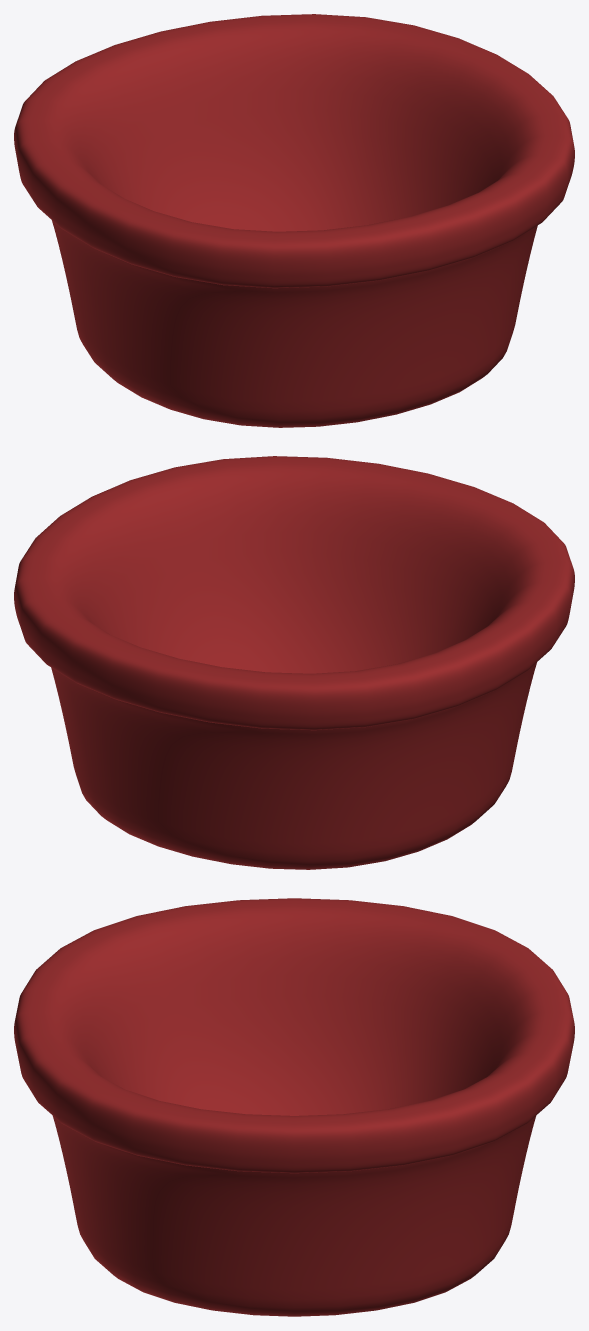
File: тазик.fbx
3 renders of one model, top to bottom at view 1: azimuth 30°, elevation 25°; view 2: azimuth 150°, elevation 25°; view 3: azimuth 270°, elevation 25°, orthographic. The views are drawn at different scales.
Parts seen in each view (by area): view 1: Cube.001; view 2: Cube.001; view 3: Cube.001.
Boxes of the visible parts, left/top/right/bottom form: Cube.001: left=14, top=14, right=574, bottom=427; Cube.001: left=14, top=456, right=574, bottom=869; Cube.001: left=14, top=898, right=574, bottom=1316.
Bounding box in the file's own units: 64.46 × 29.11 × 64.46.
